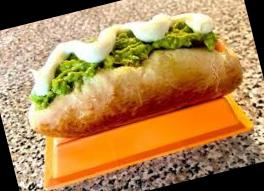Completos: (11, 0, 255, 145)
